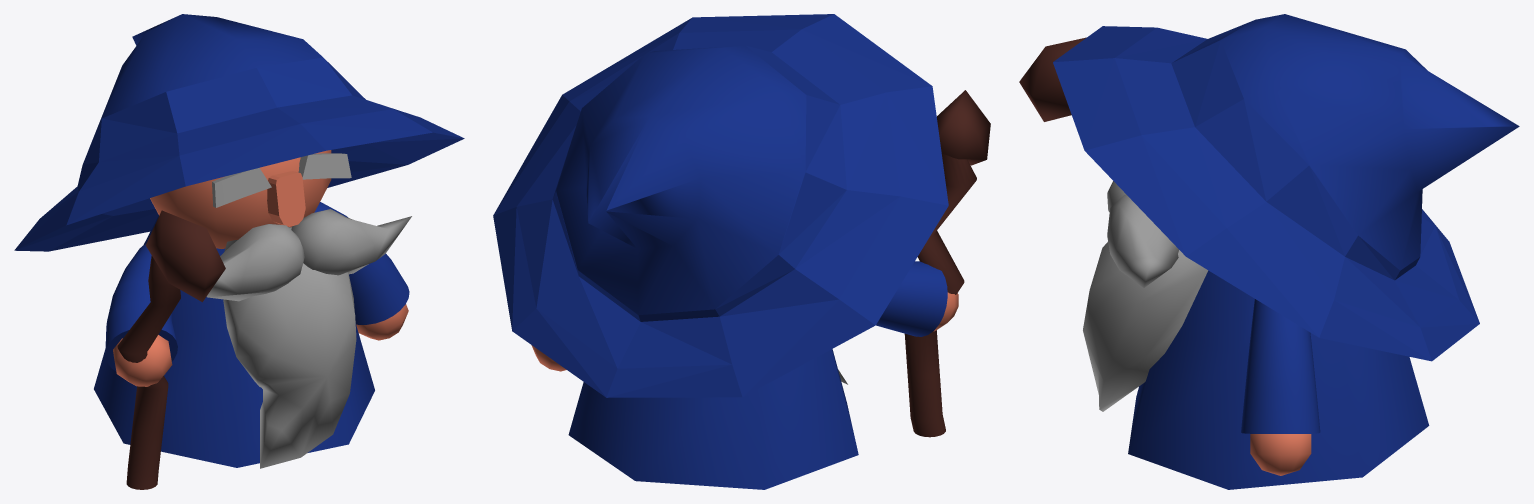
File: Mage.fbx
3 views of the same model, side by side, from view 1: azimuth 30°, elevation 25°; view 2: azimuth 150°, elevation 25°; view 3: azimuth 270°, elevation 25° (orthographic). The views are drawn at different scales.
Visible parts, largest first — view 1: Cone006, Sphere004, Cone005, Cylinder002, Sphere001, GeoSphere002, GeoSphere003, GeoSphere001, Cone008, Cone007, Box001, Sphere003 (+3 smaller); view 2: Cone006, Cone005, Cylinder002, Cone008, GeoSphere001; view 3: Cone006, Cone005, Sphere004, Cone007, GeoSphere003, GeoSphere001, Sphere002.
Part boxes in pixels (x1=…): Cone006: x1=14, y1=14, x2=464, y2=251; Sphere004: x1=223, y1=227, x2=356, y2=468; Cone005: x1=94, y1=215, x2=374, y2=467; Cylinder002: x1=117, y1=255, x2=180, y2=489; Sphere001: x1=150, y1=150, x2=331, y2=248; GeoSphere002: x1=206, y1=224, x2=304, y2=301; GeoSphere003: x1=291, y1=209, x2=411, y2=275; GeoSphere001: x1=145, y1=210, x2=225, y2=302; Cone008: x1=105, y1=244, x2=177, y2=371; Cone007: x1=314, y1=202, x2=409, y2=324; Box001: x1=267, y1=171, x2=305, y2=226; Sphere003: x1=113, y1=335, x2=172, y2=386; Cone006: x1=493, y1=14, x2=948, y2=397; Cone005: x1=568, y1=349, x2=858, y2=489; Cylinder002: x1=904, y1=149, x2=976, y2=437; Cone008: x1=876, y1=261, x2=947, y2=336; GeoSphere001: x1=937, y1=90, x2=990, y2=165; Cone006: x1=1053, y1=14, x2=1519, y2=361; Cone005: x1=1128, y1=270, x2=1429, y2=489; Sphere004: x1=1083, y1=242, x2=1208, y2=411; Cone007: x1=1241, y1=299, x2=1320, y2=433; GeoSphere003: x1=1107, y1=194, x2=1178, y2=287; GeoSphere001: x1=1019, y1=37, x2=1086, y2=121; Sphere002: x1=1250, y1=434, x2=1311, y2=475.
Bounding box in the file's own units: 63.08 × 57.14 × 64.65.
